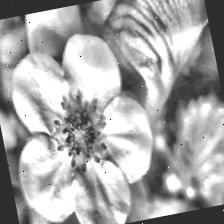Blossom Blight: (39, 84, 118, 182)
